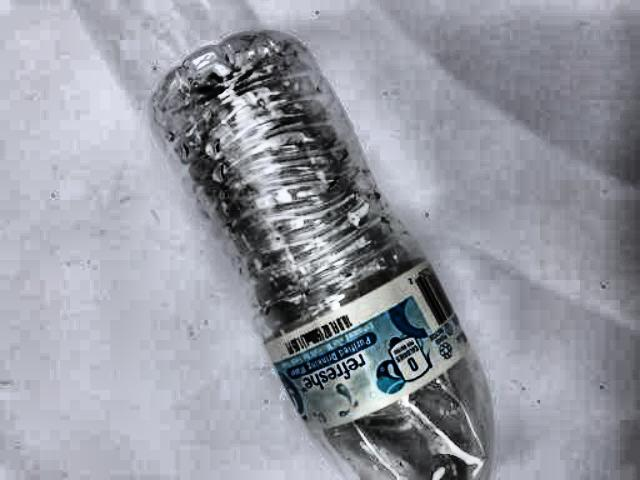Bottles: (99, 24, 526, 480)
